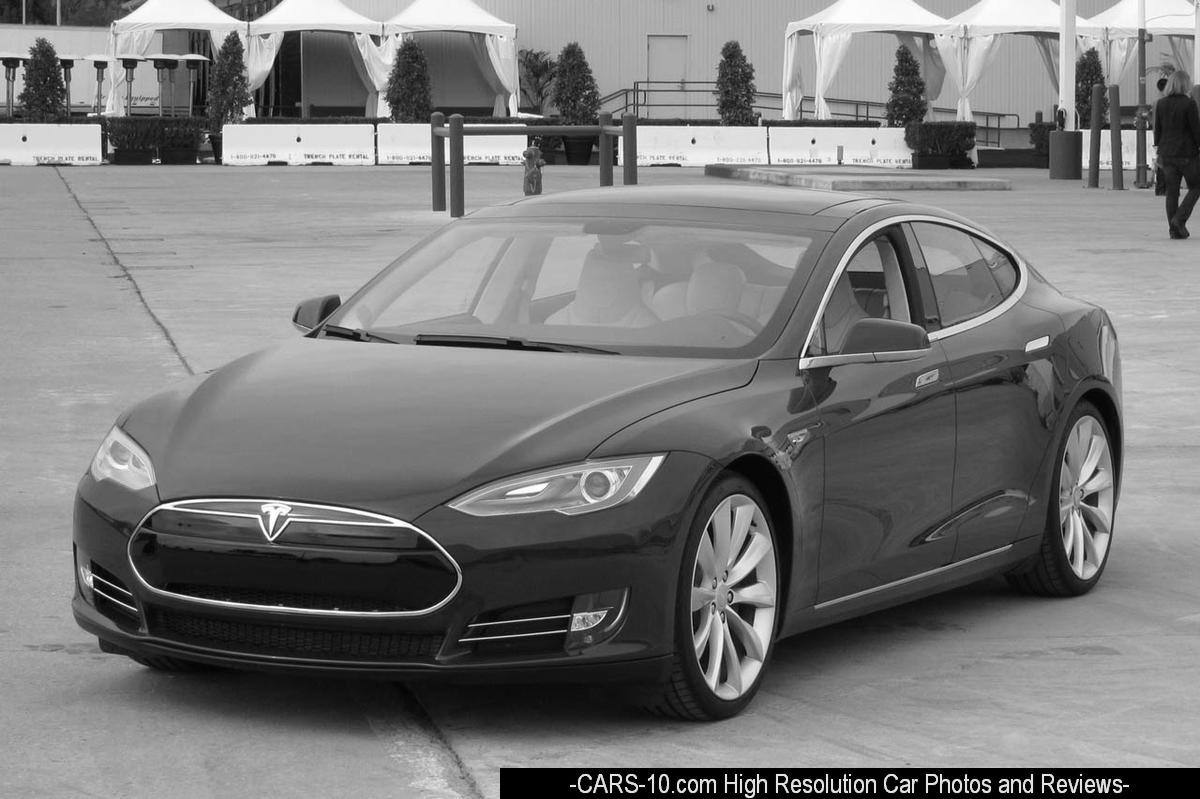car: (75, 182, 1134, 719)
